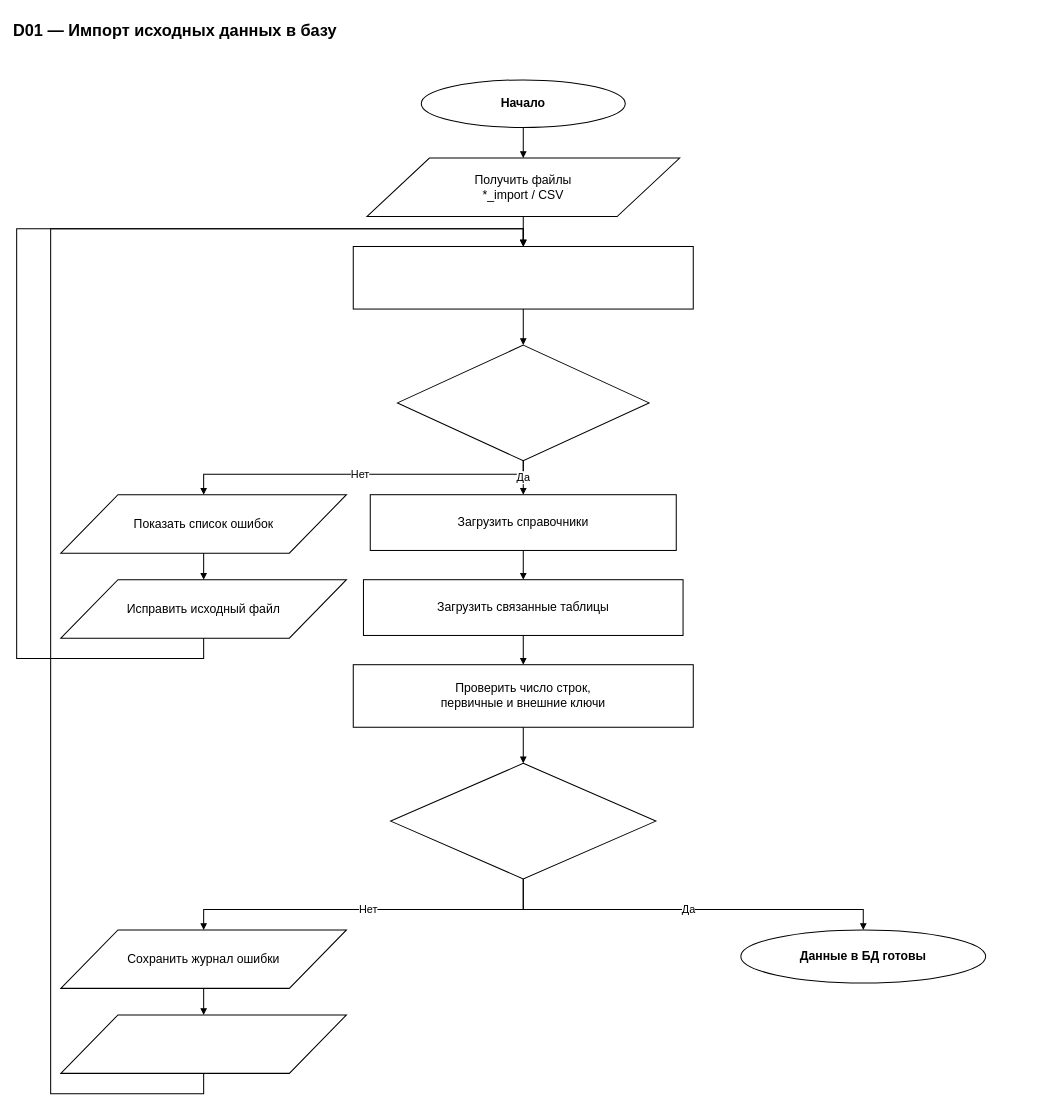
This 1047x1111 diagram has some shape labels left out. Each missing label, with the centre of its shape:
"Данные корректны?" belongs at (523,402).
"Импорт прошёл успешно?" belongs at (523,820).
"Исправить данные и повторить импорт" belongs at (203,1044).
"Проверить кодировку, обязательные поля и связи между данными" belongs at (522,277).
